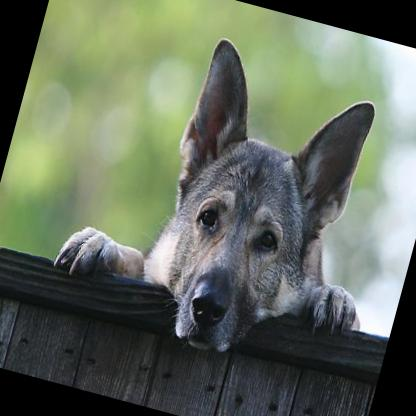German_shepherd: (35, 0, 416, 396)
